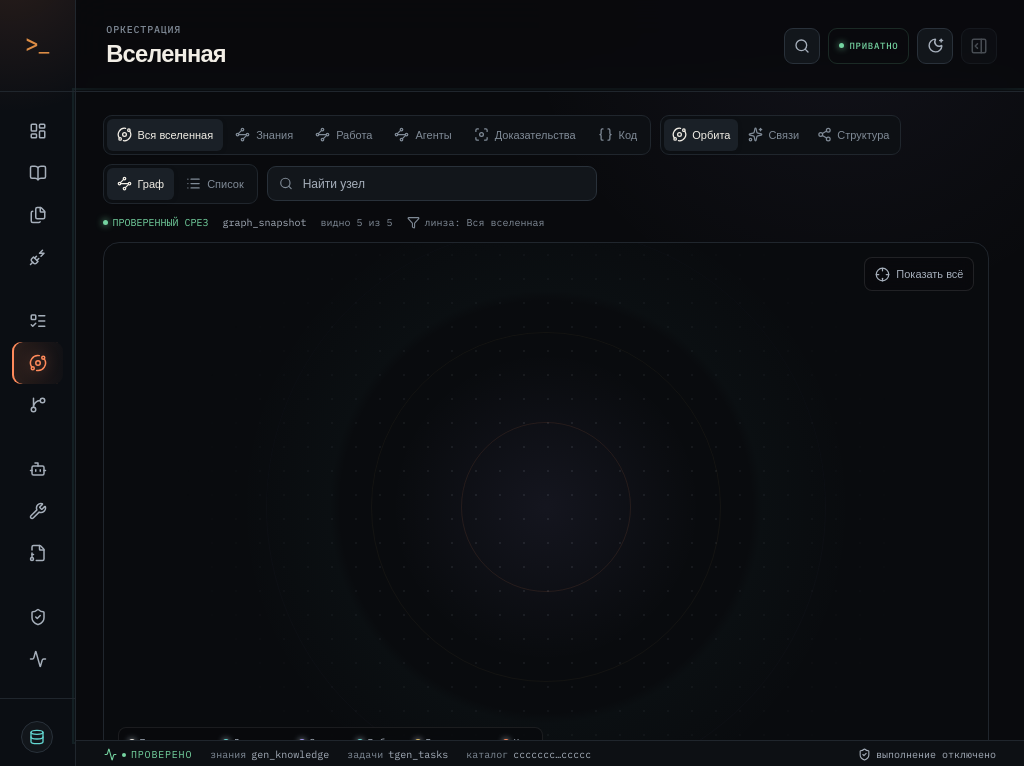
Test: raytsystem control plane › renders the error code-graph state and blocks traversal
Click the button "Код": (617, 135) [588,119,647,151]
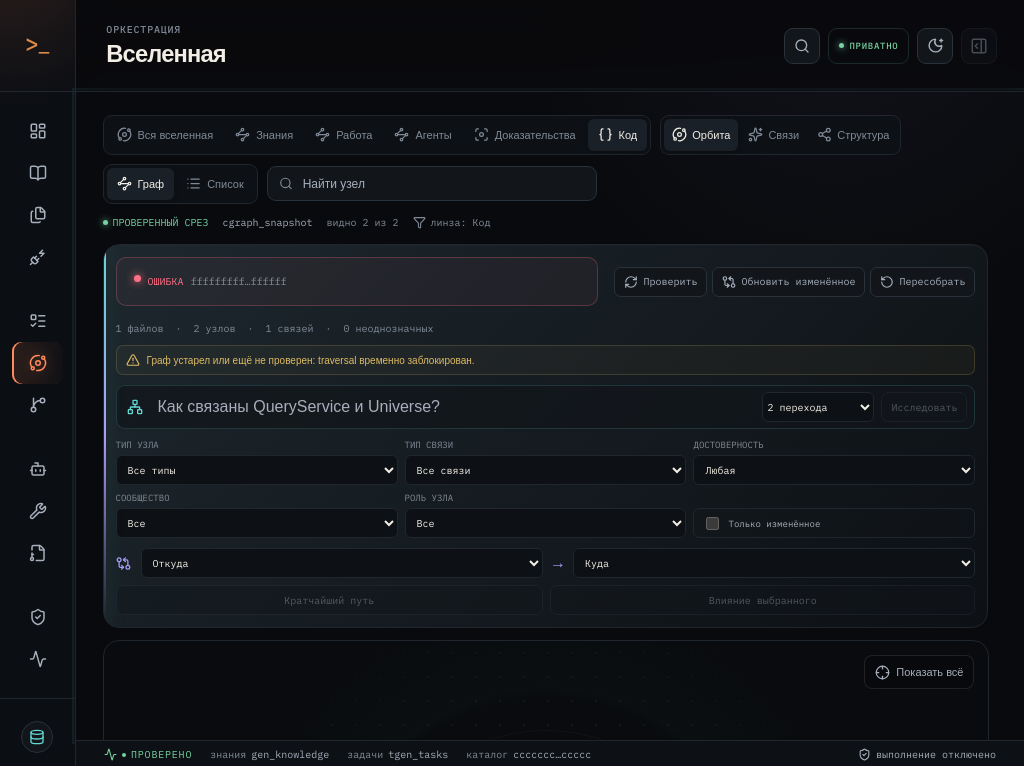
Now the text "Ошибка" is shown, box [148,275,184,288]
Now the button "Исследовать" is disabled, box [882,392,968,422]
